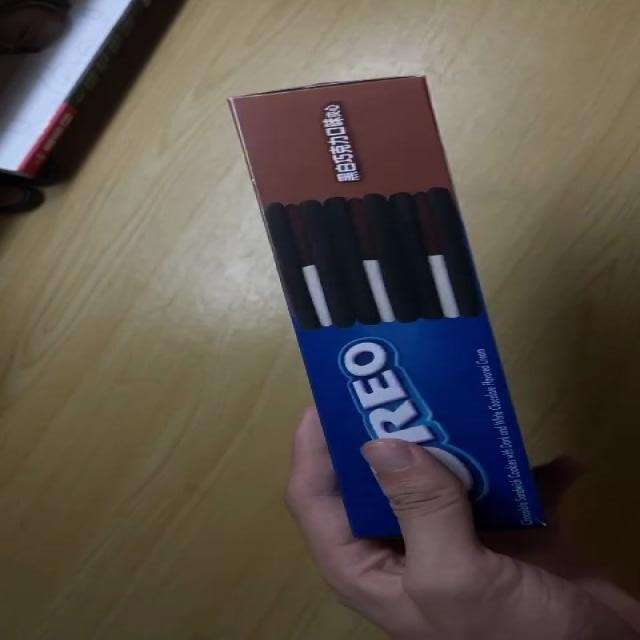Oreo: (230, 72, 552, 541)
